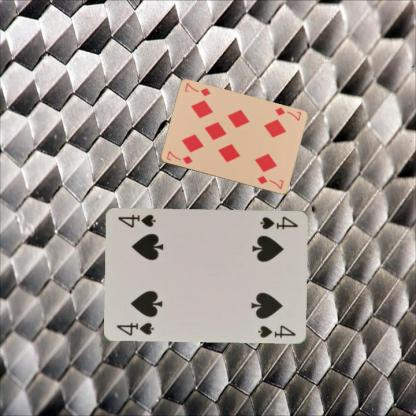4s: (258, 213, 300, 231), (115, 319, 156, 337)
7d: (164, 148, 194, 166), (272, 104, 302, 122)
